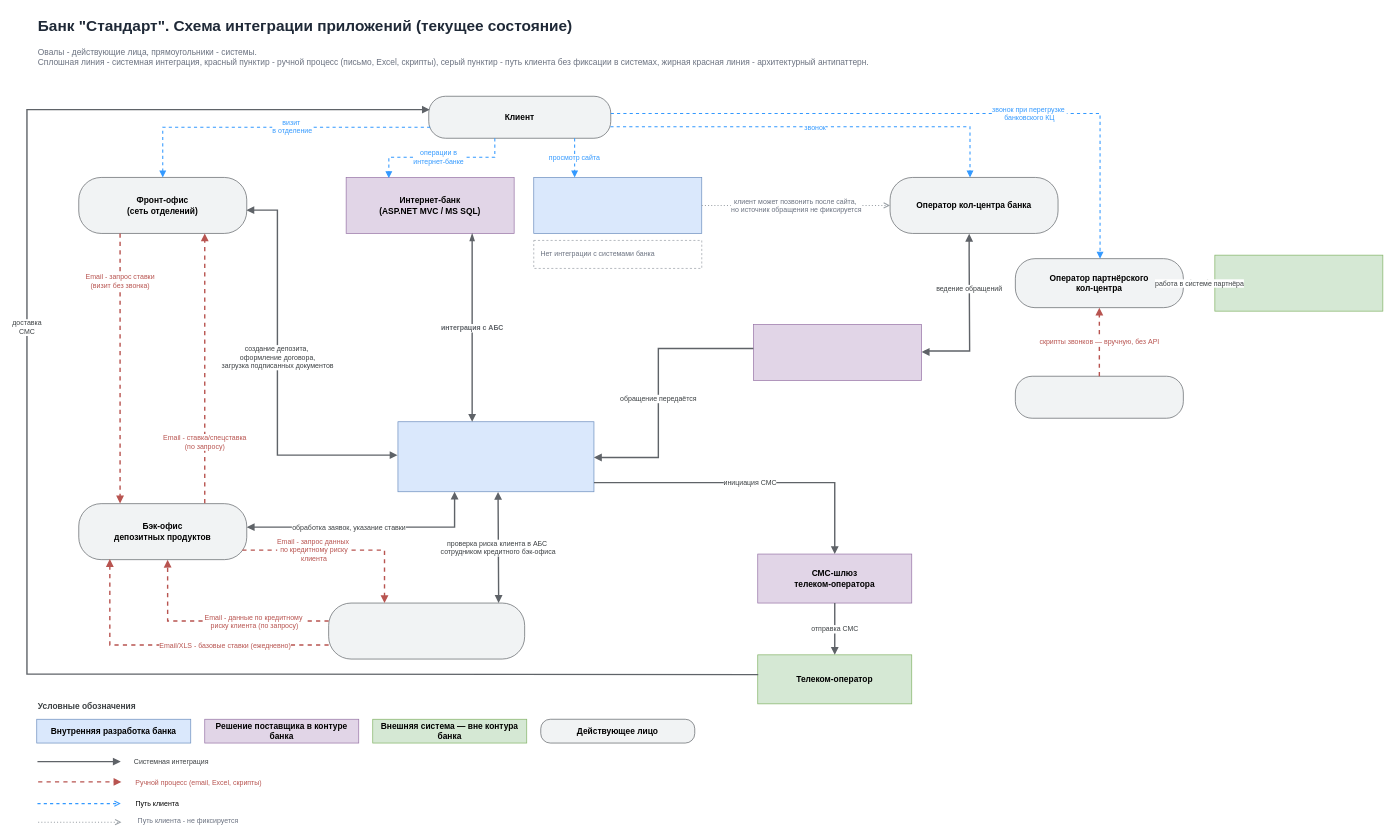
Image size: 1395x840. Some labels were removed from this diagram. Here are the shapes that lost their labels. From the top down, the centre of each, then its label:
At pixel 617 205: "Сайт (PHP + React.js)".
At pixel 1298 282: "Система партнёрского кол-центра".
At pixel 837 352: "Система кол-центра (React + Java Spring Boot)".
At pixel 1099 397: "Бизнес-представители банка".
At pixel 495 456: "АБС (Delphi + Oracle / PL-SQL)".
At pixel 426 630: "Бэк-офис кредитных продуктов (отдел кредитования)".
